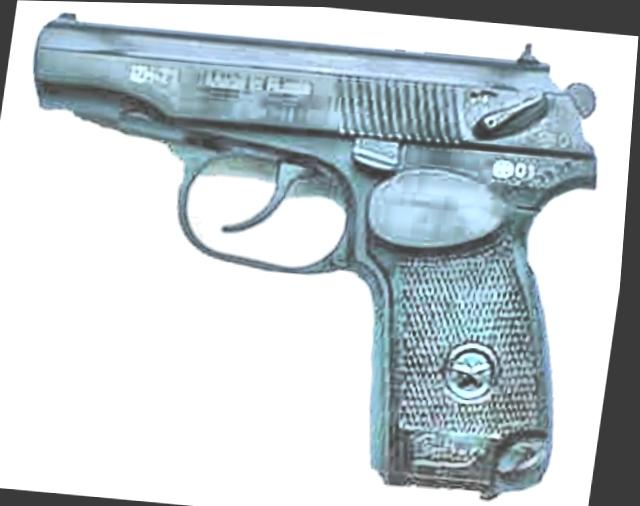pistol: (0, 0, 619, 501)
